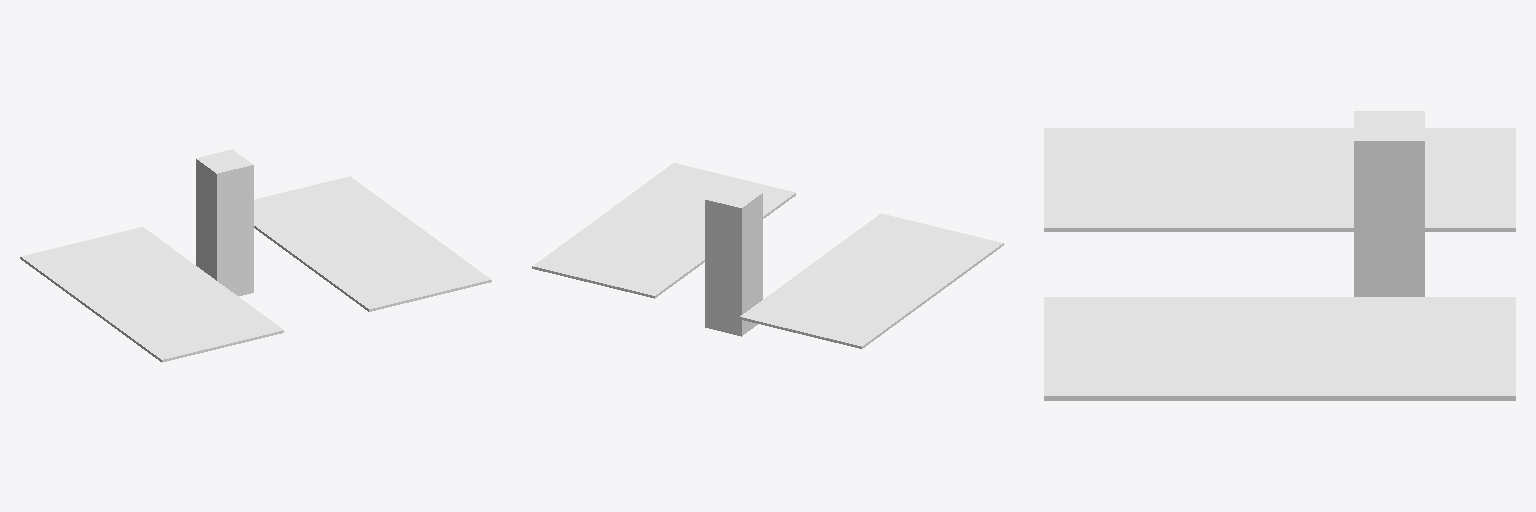
The robot description file, URDF, robot "cross_gap":
<robot name="cross_gap">
  <link name="base_link">
    <visual>
      <origin xyz="0 0 0" rpy="0 0 0" />
      <geometry>
        <mesh filename="package://hpp-rbprm-corba/meshes/cross_gap2.stl"/>
      </geometry>
      <material name="white">
        <color rgba="1 1 1 1"/>
      </material>
    </visual>
    <collision>
      <origin xyz="0 0 0" rpy="0 0 0" />
      <geometry>
        <mesh filename="package://hpp-rbprm-corba/meshes/cross_gap2.stl"/>
      </geometry>
    </collision>
  </link>
</robot>

--- Render facts (derived) ---
The picture shows the robot from 3 angles, left to right: view 1: azimuth 30°, elevation 25°; view 2: azimuth 150°, elevation 25°; view 3: azimuth 270°, elevation 25°; orthographic projection.
Robot: cross_gap — 1 links, 0 joints (none); root link base_link; default pose: every joint at zero.
Links seen in each view (by area): view 1: base_link; view 2: base_link; view 3: base_link.
Boxes of the visible links, box(x1,y1,x2,y2) form: base_link: box(20, 149, 491, 362); base_link: box(532, 163, 1003, 348); base_link: box(1044, 111, 1515, 400).
Size in the robot's own frame: 2.69 by 2 by 1 metres.
1 mesh visuals loaded from 1 distinct referenced files (1 binary STL).